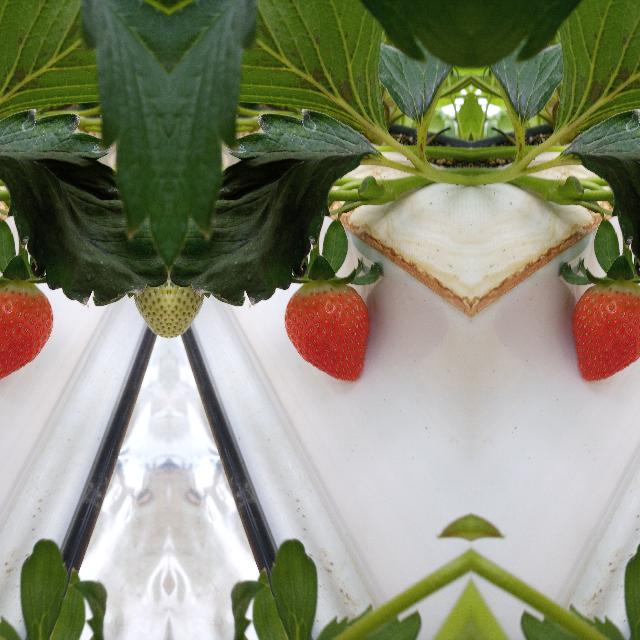Health_100: (284, 278, 368, 382), (572, 278, 640, 382), (0, 278, 52, 382)
Health_25: (168, 254, 202, 338), (134, 254, 168, 338)
